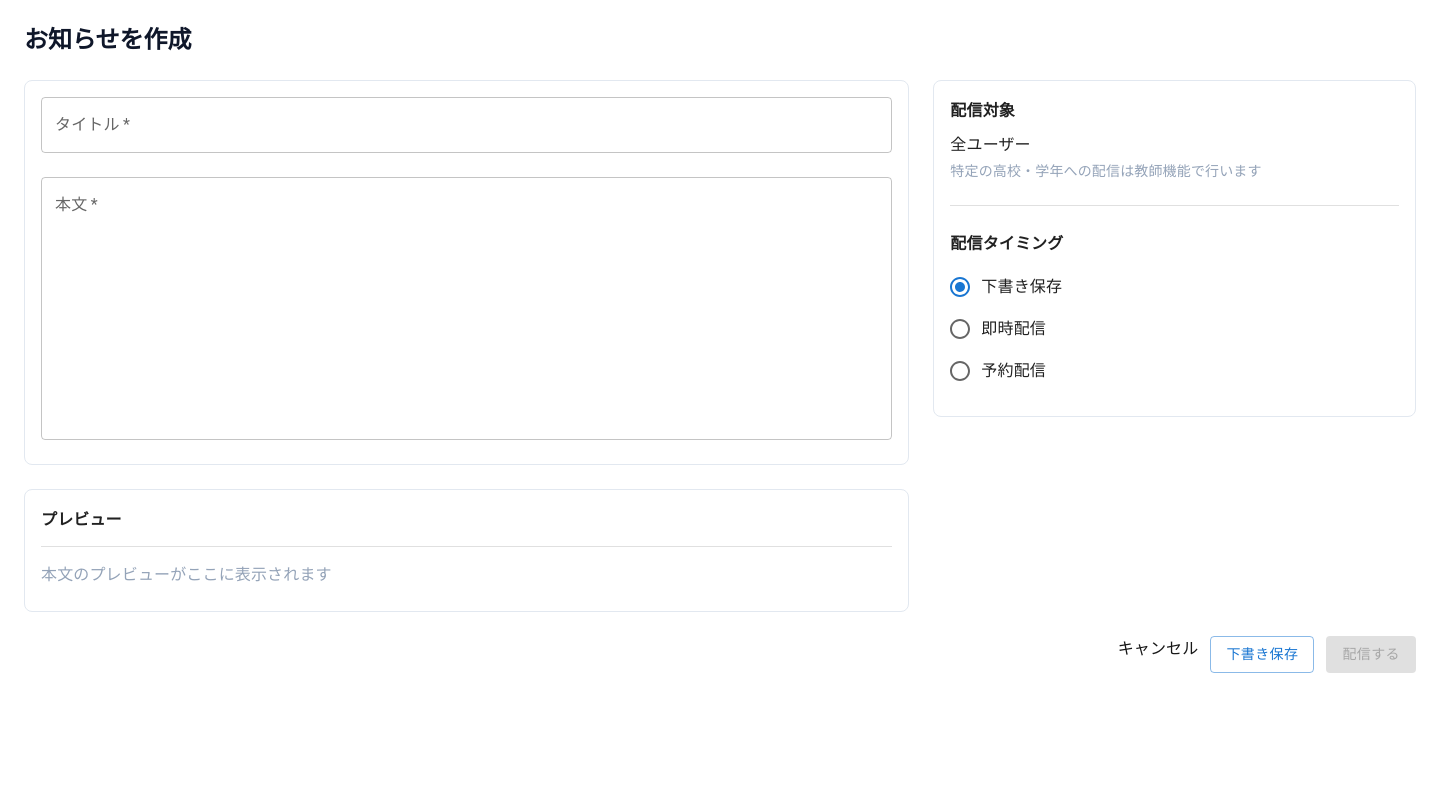
Test: NoticeEditorPresenter › タイトル・本文が未入力のまま下書き保存すると必須エラーが表示されonSaveDraftは呼ばれない
The image size is (1440, 810).
Click the button "下書き保存".
click(1262, 654)  # box [1210,636,1314,672]
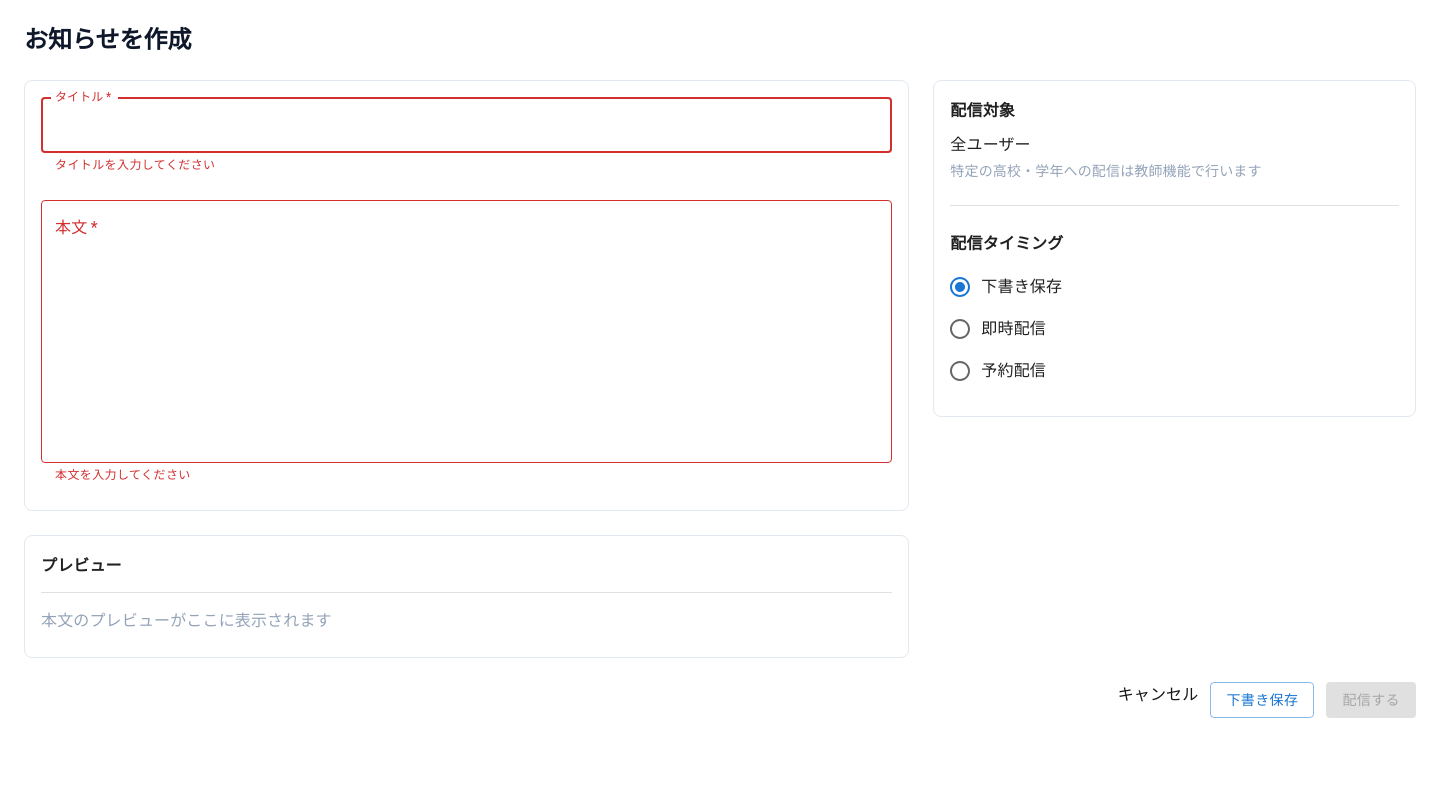
Expected: the text "タイトルを入力してください" is shown, [55,158,216,172]
Expected: the text "本文を入力してください" is shown, [55,468,191,482]
